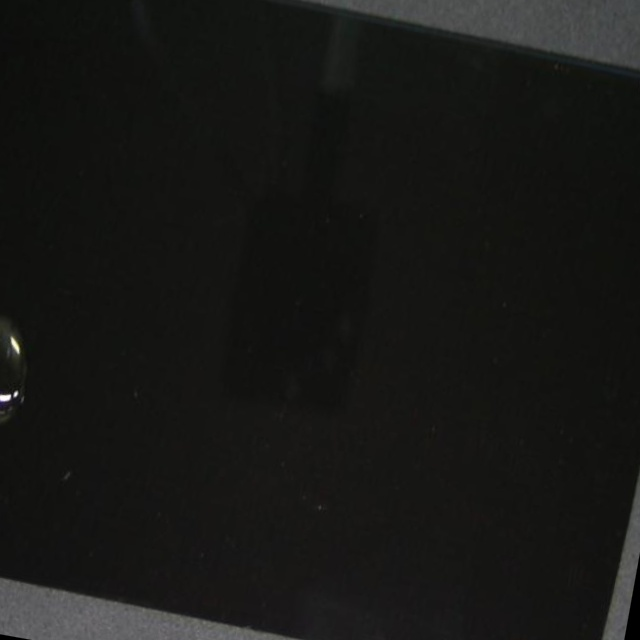oil: (0, 120, 120, 565)
